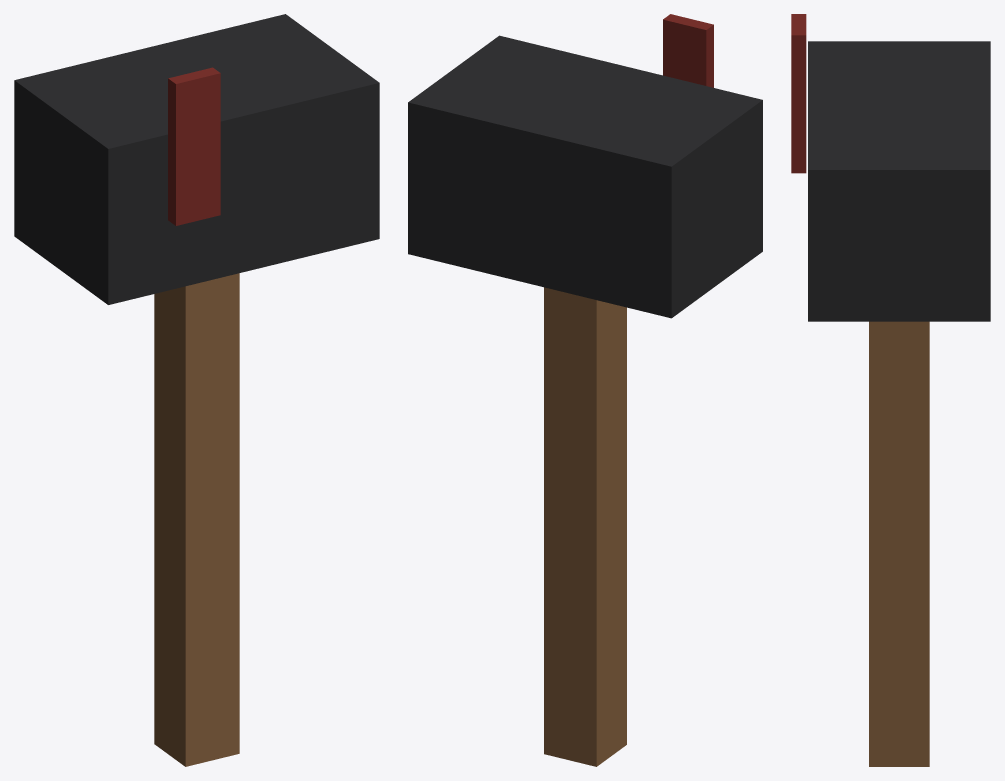
Rendered from mailbox.glb.
The picture shows the model from 3 angles, left to right: view 1: azimuth 30°, elevation 25°; view 2: azimuth 150°, elevation 25°; view 3: azimuth 270°, elevation 25°; orthographic projection. The views are drawn at different scales.
Parts seen in each view (by area): view 1: mailbox; view 2: mailbox; view 3: mailbox.
Boxes of the visible parts, x1,y1,x2,y2 form: mailbox: (14,14,379,766); mailbox: (408,14,762,766); mailbox: (791,14,990,766).
Bounding box in the file's own units: 2 × 5.1 × 1.31.
